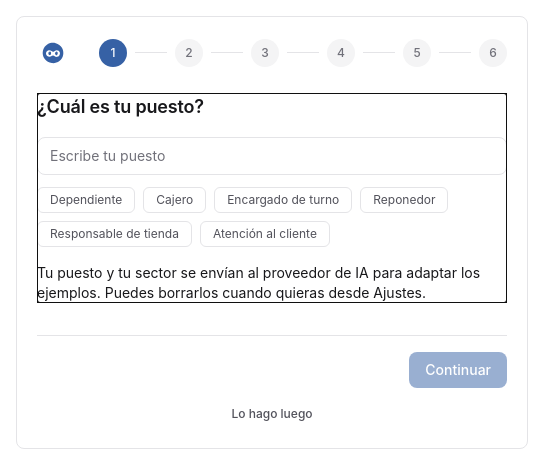
Scenario: Onboarding — shape (§6.1) › blocks Continuar until the question is answered
This screenshot has width=545, height=466.
Expected: the heading "¿Cuál es tu puesto?" is shown, top-left (37, 96), bottom-right (204, 116)
Expected: the button "Continuar" is disabled, top-left (409, 352), bottom-right (507, 388)
Type "Cajero" into the field at point(272, 156), box top-left (37, 136), bottom-right (507, 174)
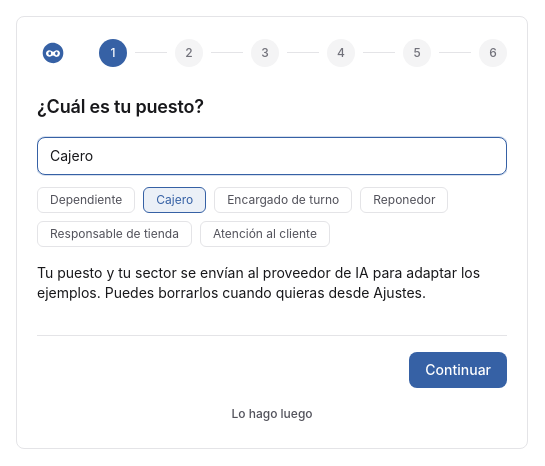
Now the button "Continuar" is enabled, box top-left (409, 352), bottom-right (507, 388)
